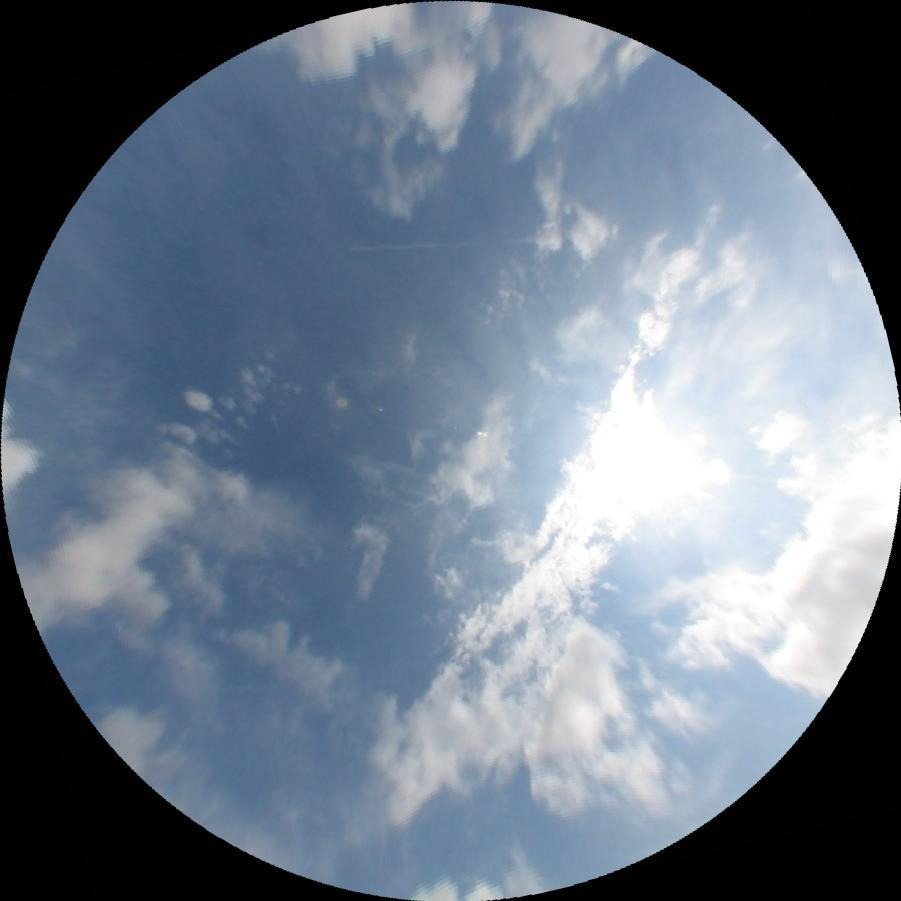contrail young: (348, 234, 535, 252)
